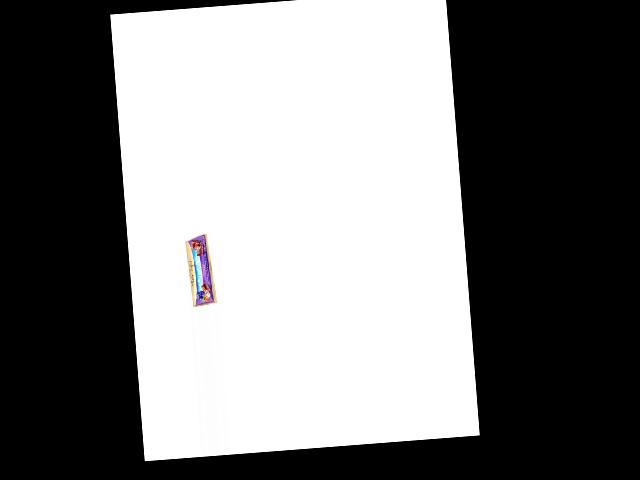chocolate: (187, 230, 217, 307)
